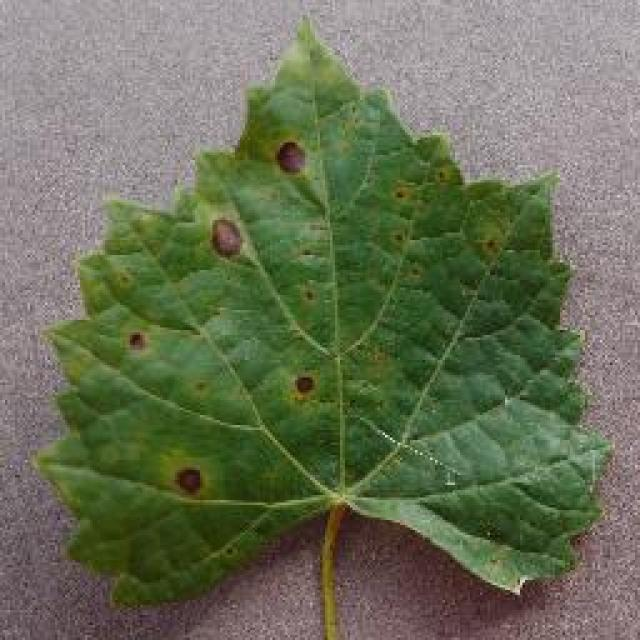Grape___Black_rot: (25, 7, 629, 638)
